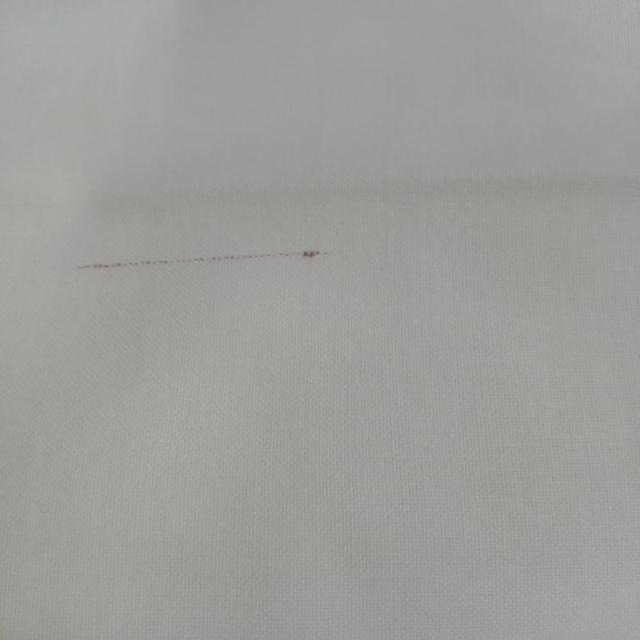contamination: (64, 240, 335, 278)
